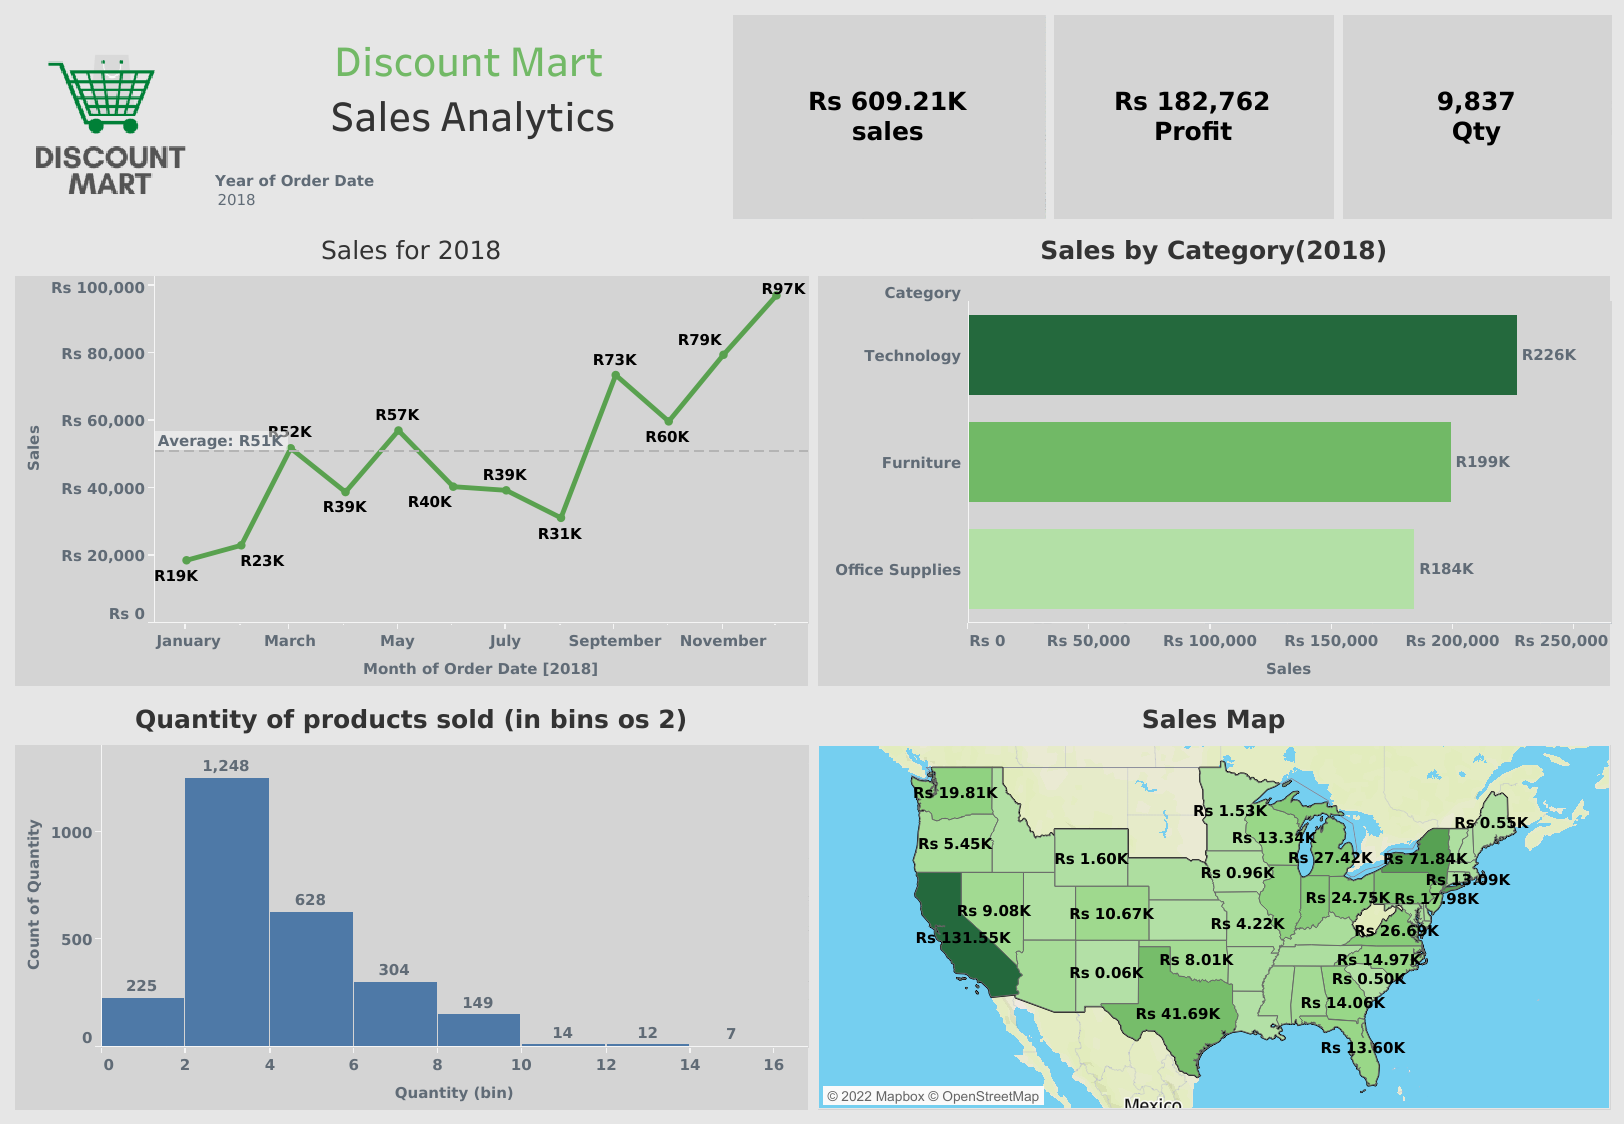

What the dashboard file says about the page in this screenshot:
{"tool":"tableau","page":{"name":"Dashboard 1","canvas":[1300,900],"ordinal":0},"visuals":[{"type":"image","param":"Image/1.1 Discount Mart (1).png","box":[8,8,160.5,170]},{"type":"text","box":[168.5,8,413.5,124]},{"type":"worksheet","title":"Sales card","mark":"Automatic","box":[582,8,257,170]},{"type":"worksheet","title":"Profit card","mark":"Automatic","box":[839,8,231,170]},{"type":"worksheet","title":"Quantity card","mark":"Automatic","box":[1070,8,222,170]},{"type":"filter","title":"Yearly sales","param":"[federated.0t5htss1nwd4z517u4e0e0enbswl].[yr:Order Date:ok]","box":[168.5,132,413.5,46]},{"type":"worksheet","title":"Yearly sales","mark":"Automatic","rows":["Sales"],"cols":["Order Date"],"box":[8,178,642,375]},{"type":"worksheet","title":"Sales by Category","mark":"Automatic","rows":["Category"],"cols":["Sales"],"box":[650,178,642,375]},{"type":"worksheet","title":"Products sold per order","mark":"Automatic","rows":["Quantity"],"cols":["Quantity (bin)"],"box":[8,553,642,339]},{"type":"worksheet","title":"Sales map","mark":"Automatic","box":[650,553,642,339]}]}

Visuals, with their boxes in screenshot pixels (x1, y1, x2, y2), scaled from the page's 1300x900 canvas onto the 1624x1124 screenshot:
image: x1=10 y1=10 x2=210 y2=222
text: x1=210 y1=10 x2=727 y2=165
"Sales card" worksheet: x1=727 y1=10 x2=1048 y2=222
"Profit card" worksheet: x1=1048 y1=10 x2=1337 y2=222
"Quantity card" worksheet: x1=1337 y1=10 x2=1614 y2=222
"Yearly sales" filter: x1=210 y1=165 x2=727 y2=222
"Yearly sales" worksheet: x1=10 y1=222 x2=812 y2=691
"Sales by Category" worksheet: x1=812 y1=222 x2=1614 y2=691
"Products sold per order" worksheet: x1=10 y1=691 x2=812 y2=1114
"Sales map" worksheet: x1=812 y1=691 x2=1614 y2=1114
